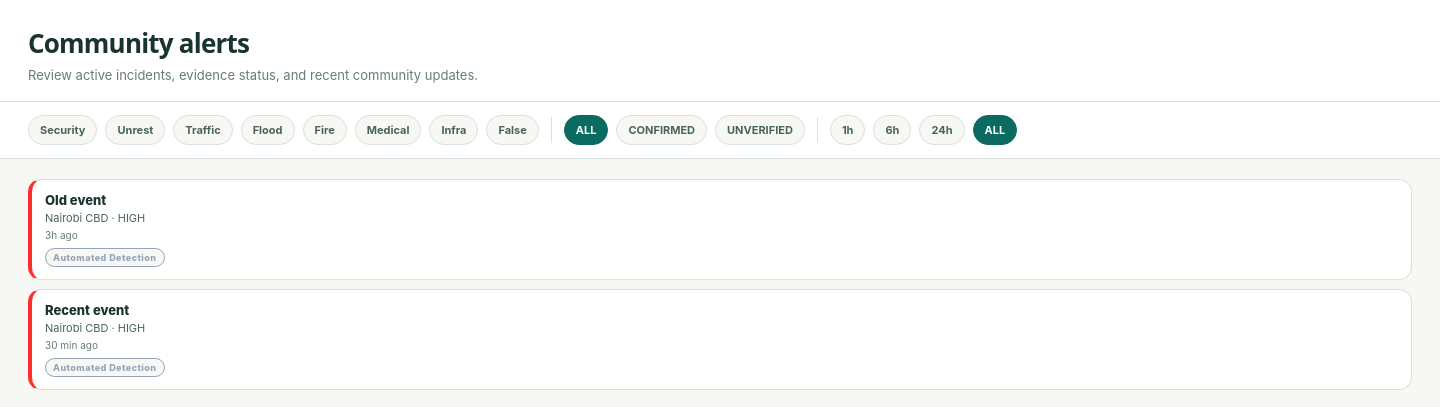
Test: AlertsPage › shows only events in last 1 hour when timeRange = "1h"
Click the button with test id "time-range-1h" at (848, 130), box [830,115,866,145]
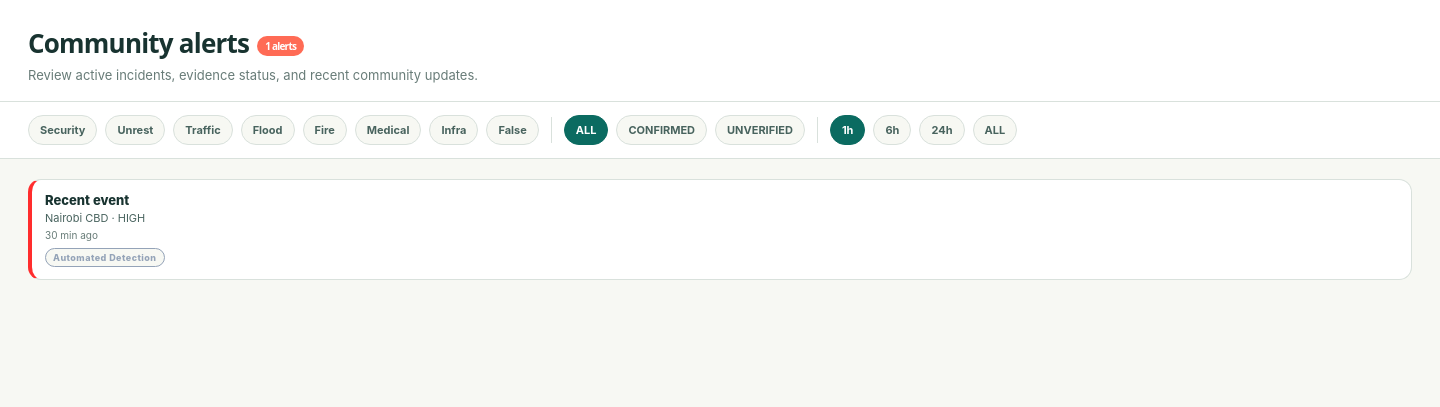
Expected: the text "Recent event" is shown, [45,192,129,208]
Expected: the button "Old event" is gone
